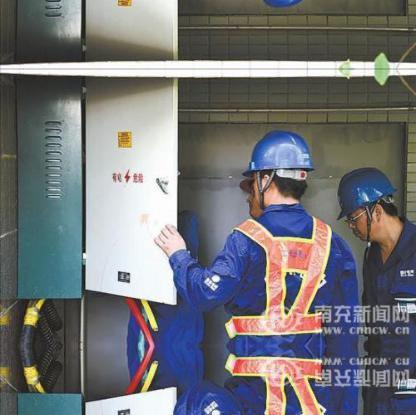helmet: (238, 129, 324, 179), (334, 164, 397, 221)
